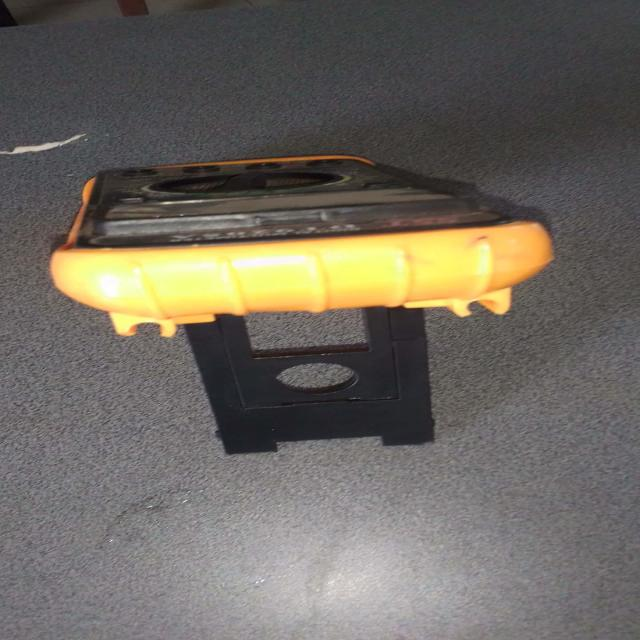Digital Multimeter: (16, 147, 564, 332)
